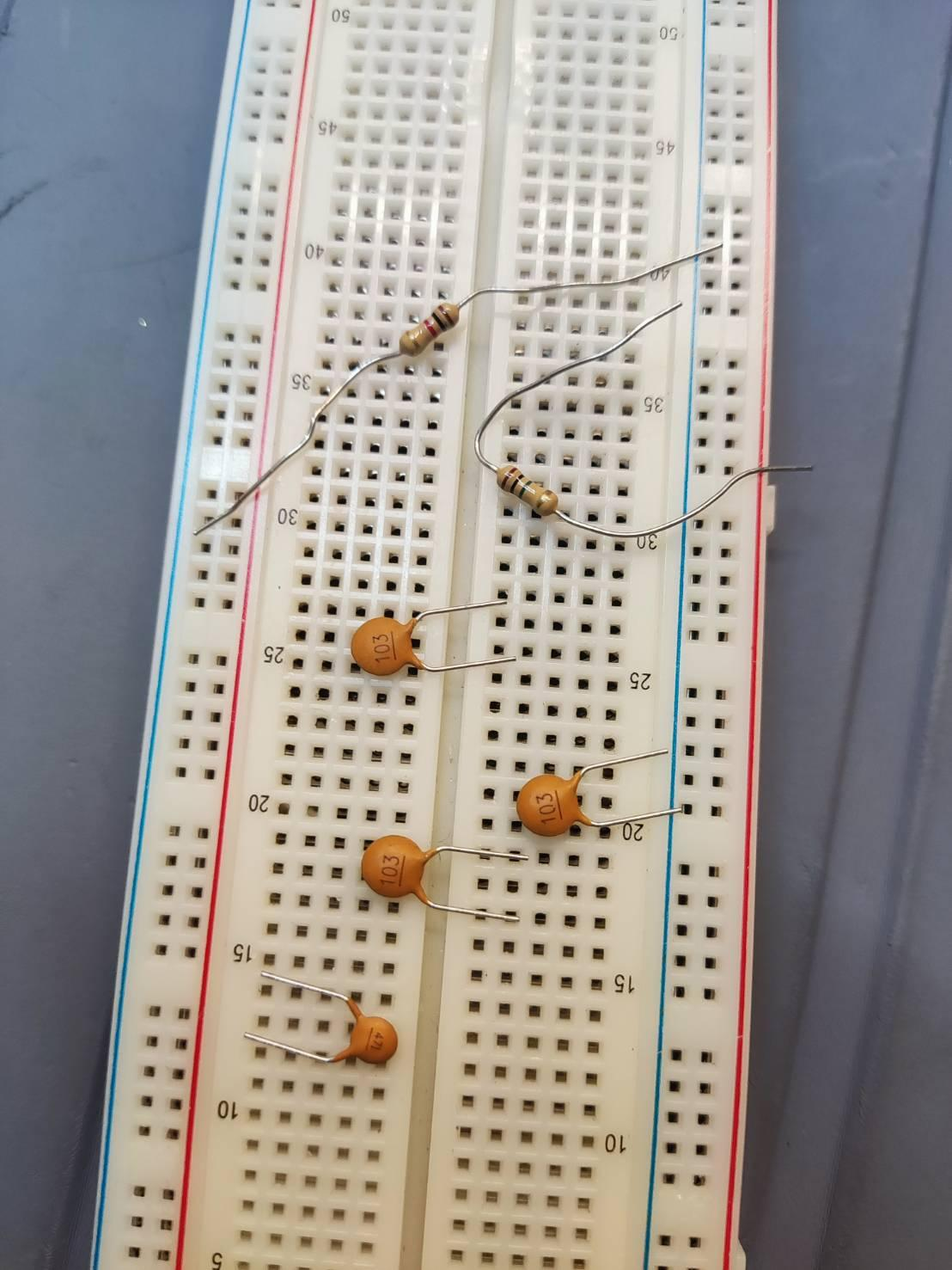resistor: (399, 298, 462, 356), (497, 466, 557, 519)
